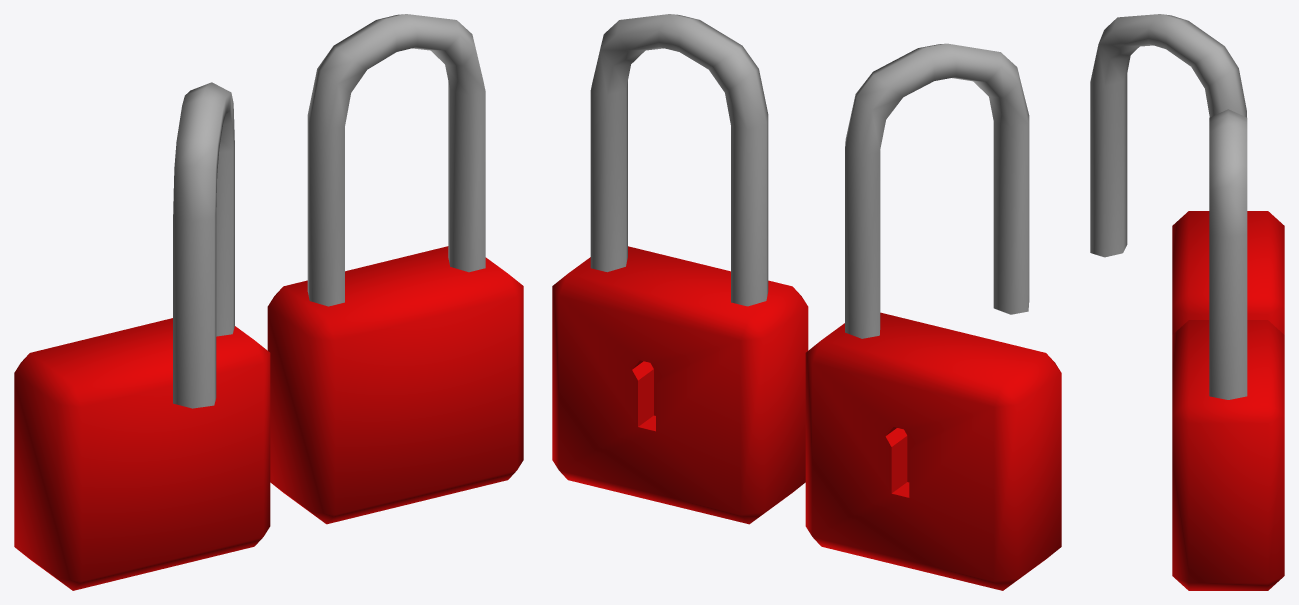
The model's file is Locks.fbx.
3 views of the same model, side by side, from view 1: azimuth 30°, elevation 25°; view 2: azimuth 150°, elevation 25°; view 3: azimuth 270°, elevation 25° (orthographic). The views are drawn at different scales.
Visible parts, largest first — view 1: Lock_Locked, Lock_Unlocked; view 2: Lock_Unlocked, Lock_Locked; view 3: Lock_Locked, Lock_Unlocked.
Boxes of the visible parts, left/top/right/bottom form: Lock_Locked: left=267, top=14, right=523, bottom=524; Lock_Unlocked: left=14, top=82, right=270, bottom=590; Lock_Unlocked: left=805, top=43, right=1061, bottom=590; Lock_Locked: left=552, top=14, right=808, bottom=524; Lock_Locked: left=1172, top=109, right=1284, bottom=590; Lock_Unlocked: left=1090, top=14, right=1284, bottom=334.
Size of the model in its own units: 1.94 by 1.9 by 0.7632.
